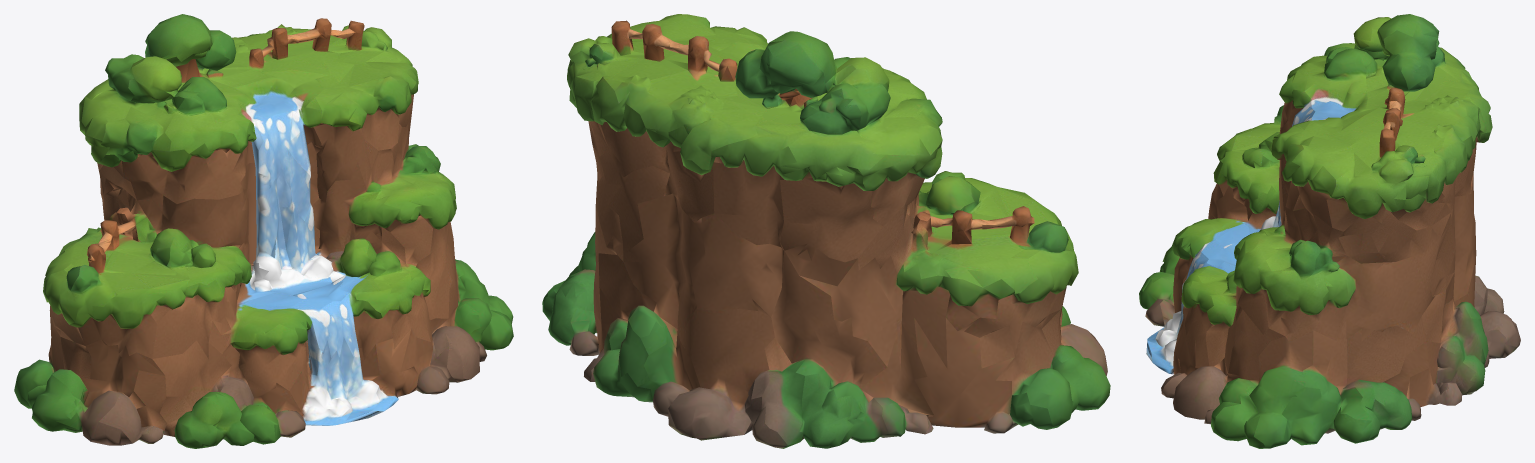
The model's file is forest-waterfall.glb.
3 renders of one model, left to right at view 1: azimuth 30°, elevation 25°; view 2: azimuth 150°, elevation 25°; view 3: azimuth 270°, elevation 25°, orthographic. The views are drawn at different scales.
Size of the model in its own units: 1.9 by 1.24 by 1.38.
Materials: 1 (1 with a texture image).
